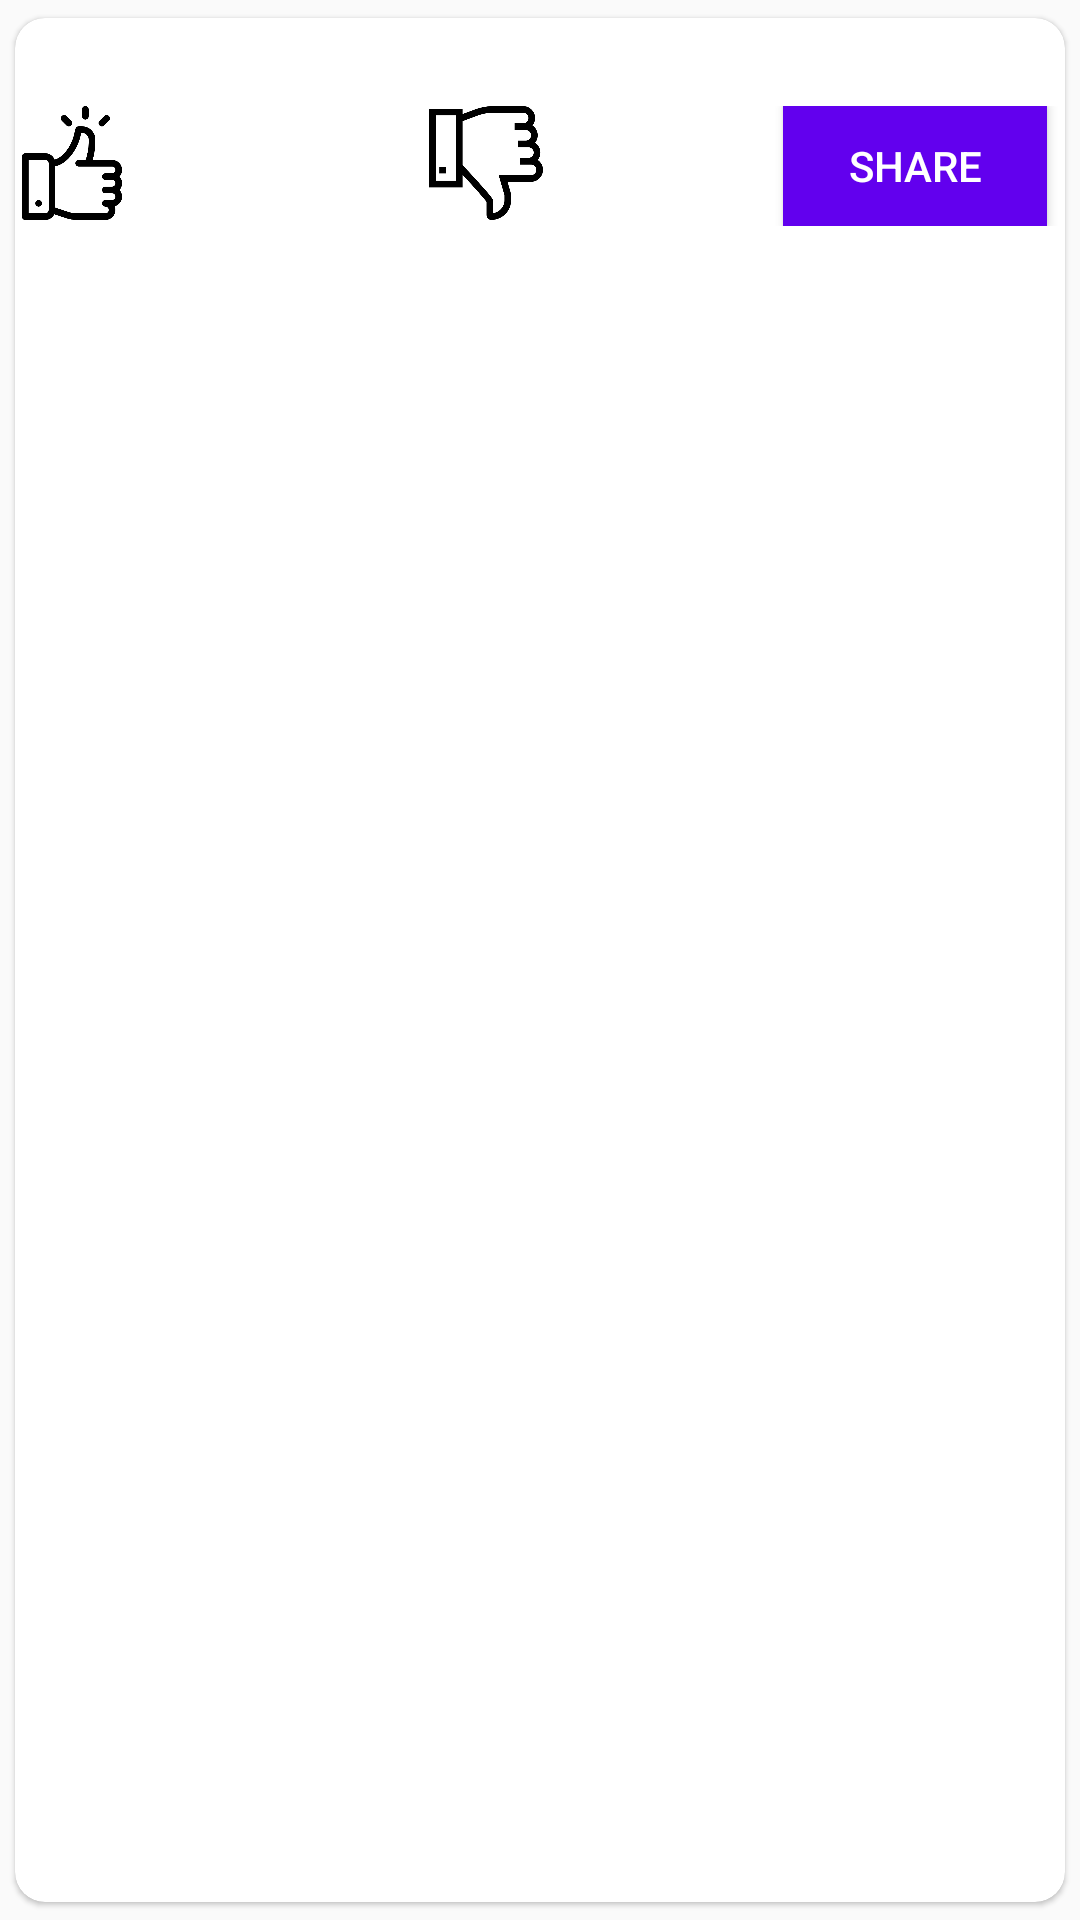

Point at icon controls on the screen. Image size 1080px×1920px, points as (x,y).
dislike: (486,163)
like: (72,163)
